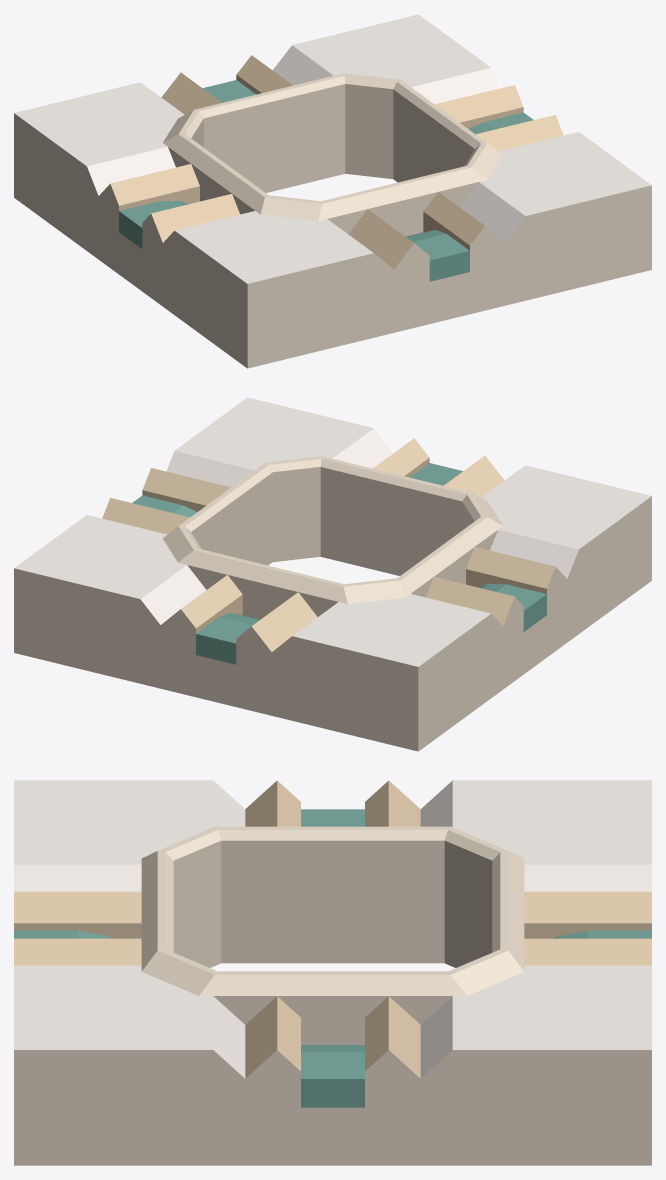
Rendered from Puzzle_Floor_Conduit_Control_Housing_Cross.glb.
3 views of the same model, one above another, from view 1: azimuth 30°, elevation 25°; view 2: azimuth 150°, elevation 25°; view 3: azimuth 270°, elevation 25° (orthographic). The views are drawn at different scales.
Parts seen in each view (by area): view 1: Puzzle_Floor_Conduit_Control_Housing_Cross; view 2: Puzzle_Floor_Conduit_Control_Housing_Cross; view 3: Puzzle_Floor_Conduit_Control_Housing_Cross.
Boxes of the visible parts, left/top/right/bottom form: Puzzle_Floor_Conduit_Control_Housing_Cross: left=14, top=14, right=651, bottom=368; Puzzle_Floor_Conduit_Control_Housing_Cross: left=14, top=397, right=651, bottom=751; Puzzle_Floor_Conduit_Control_Housing_Cross: left=14, top=780, right=651, bottom=1165.
Size of the model in its own units: 1 by 0.225 by 1.
